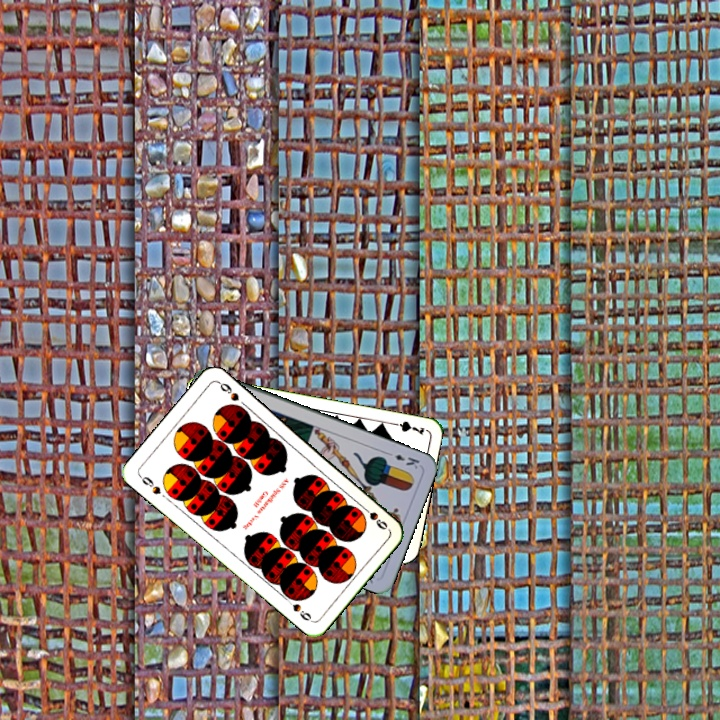EK: (382, 448, 422, 472)
G7: (387, 417, 427, 438)
S9: (357, 501, 390, 532), (135, 471, 163, 497)
